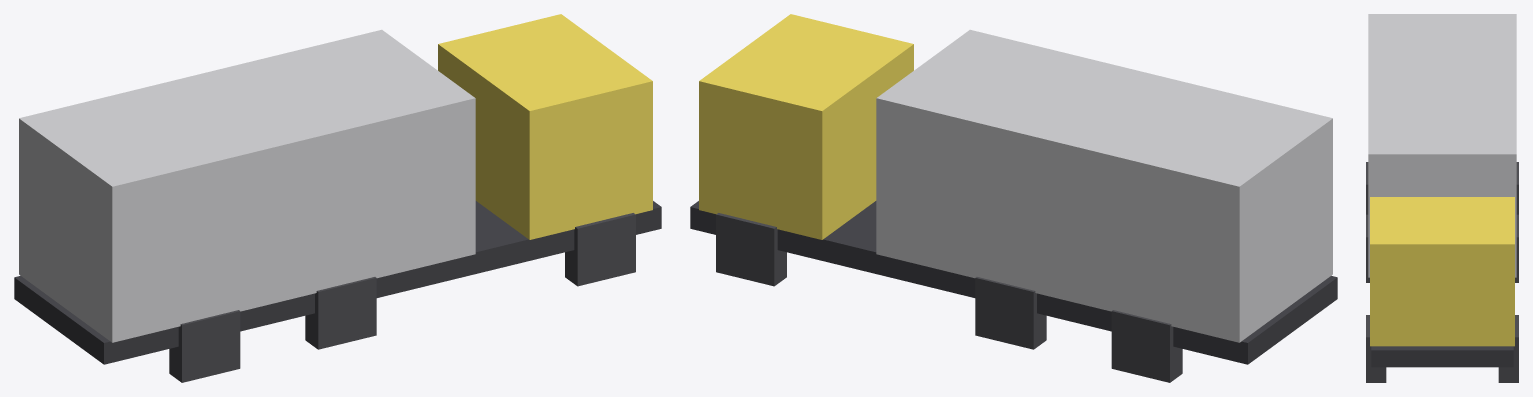
The model's file is AED_Truck.gltf.
The picture shows the model from 3 angles, left to right: view 1: azimuth 30°, elevation 25°; view 2: azimuth 150°, elevation 25°; view 3: azimuth 270°, elevation 25°; orthographic projection. The views are drawn at different scales.
Parts seen in each view (by area): view 1: AED_Truck; view 2: AED_Truck; view 3: AED_Truck.
Part boxes in pixels (bbox=[...]): AED_Truck: bbox=[14, 14, 661, 382]; AED_Truck: bbox=[690, 14, 1337, 382]; AED_Truck: bbox=[1366, 14, 1518, 382].
Size of the model in its own units: 8.6 by 3.12 by 2.58.
